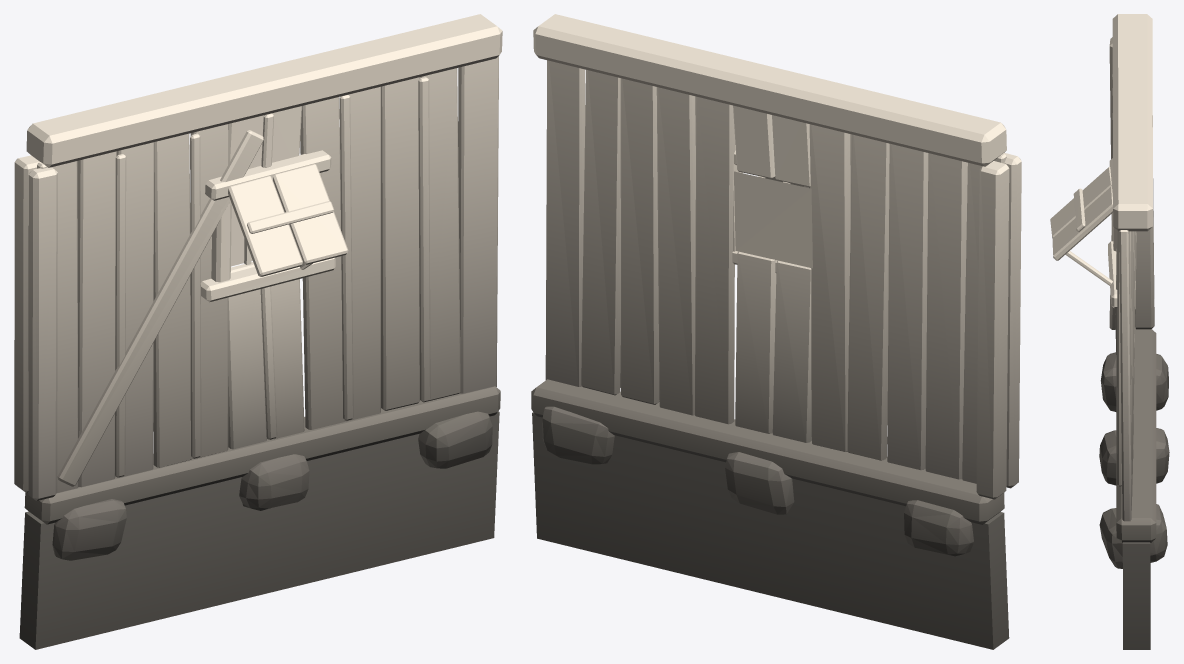
The model's file is SM_VK_Wall_Shed_Window.fbx.
3 views of the same model, side by side, from view 1: azimuth 30°, elevation 25°; view 2: azimuth 150°, elevation 25°; view 3: azimuth 270°, elevation 25° (orthographic). The views are drawn at different scales.
Parts seen in each view (by area): view 1: SM_VK_Wall_Shed_Window.001; view 2: SM_VK_Wall_Shed_Window.001; view 3: SM_VK_Wall_Shed_Window.001.
Boxes of the visible parts, bbox=[...] form: SM_VK_Wall_Shed_Window.001: bbox=[14, 14, 502, 649]; SM_VK_Wall_Shed_Window.001: bbox=[531, 14, 1021, 649]; SM_VK_Wall_Shed_Window.001: bbox=[1050, 14, 1169, 649].
Size of the model in its own units: 3.09 by 3.21 by 0.7765.
